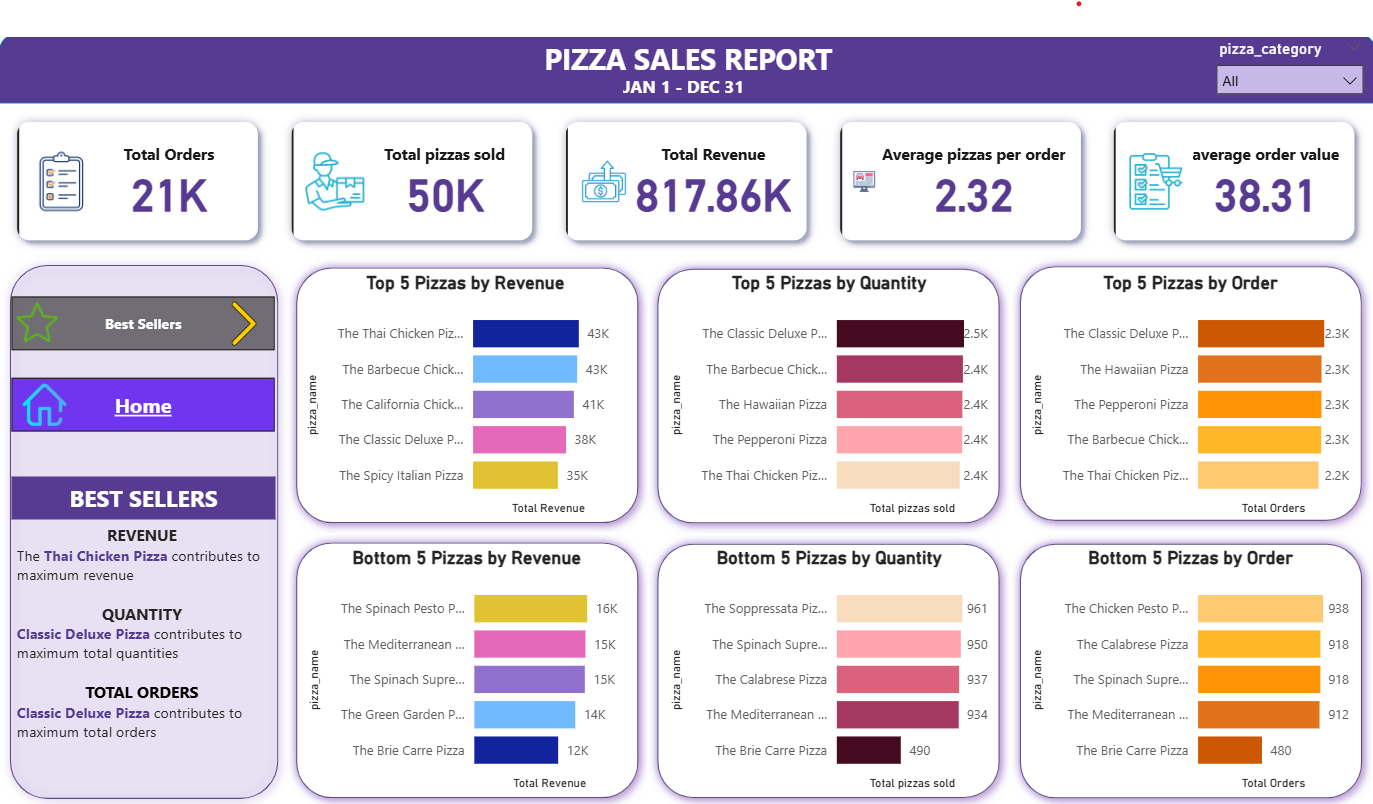

The page's visual inventory and layout, read from the dashboard file:
{"tool":"powerbi","page":{"name":"Best Sellers","canvas":[1280,720],"ordinal":1},"visuals":[{"type":"cardVisual","fields":{"Data":["pizza_sales.Total Orders","pizza_sales.Total pizzas sold","pizza_sales.Total Revenue","pizza_sales.Average pizzas per order","pizza_sales.average order value"]},"box":[0,64.7,1280.9,144.1],"z":0},{"type":"shape","box":[0,0,1280.9,64.7],"z":1000},{"type":"textbox","box":[497.4,0,287,45.5],"z":2000},{"type":"textbox","box":[575.3,32.5,132.5,32.5],"z":3000},{"type":"shape","box":[267.5,207.8,336.4,255.8],"z":4000},{"type":"shape","box":[1.5,205.9,267.6,514.7],"z":5000},{"type":"textbox","box":[11.8,411.8,245.6,39.7],"z":6000},{"type":"textbox","box":[11.8,451.5,242.6,233.8],"z":7000},{"type":"slicer","fields":{"Values":["pizza_sales.pizza_category"]},"box":[1122.1,0,157.4,64.7],"z":8000},{"type":"shape","box":[603.9,209.1,336.4,255],"z":9000},{"type":"shape","box":[940.3,206.5,336,255],"z":10000},{"type":"shape","box":[267.5,463.6,336.4,255.8],"z":11000},{"type":"shape","box":[603.9,464.9,336.4,254.5],"z":12000},{"type":"shape","box":[940.3,464.9,336.4,255],"z":13000},{"type":"barChart","title":"Top 5 Pizzas by Revenue","fields":{"Category":["pizza_sales.pizza_name"],"Y":["pizza_sales.Total Revenue"]},"box":[281.8,220.8,305.2,231.2],"z":14000},{"type":"barChart","title":"Bottom 5  Pizzas by Revenue","fields":{"Category":["pizza_sales.pizza_name"],"Y":["pizza_sales.Total Revenue"]},"box":[283.1,476.6,305.2,231.2],"z":15000},{"type":"barChart","title":"Top 5 Pizzas by Quantity","fields":{"Category":["pizza_sales.pizza_name"],"Y":["pizza_sales.Total pizzas sold"]},"box":[619.5,220.8,305.2,231.2],"z":16000},{"type":"barChart","title":"Bottom 5 Pizzas by Quantity","fields":{"Category":["pizza_sales.pizza_name"],"Y":["pizza_sales.Total pizzas sold"]},"box":[619.5,476.6,305.2,231.2],"z":17000},{"type":"barChart","title":"Top 5 Pizzas by Order","fields":{"Category":["pizza_sales.pizza_name"],"Y":["pizza_sales.Total Orders"]},"box":[955.8,220.8,305.2,231.2],"z":18000},{"type":"barChart","title":"Bottom 5 Pizzas by Order","fields":{"Category":["pizza_sales.pizza_name"],"Y":["pizza_sales.Total Orders"]},"box":[955.8,476.6,305.2,231.2],"z":19000},{"type":"pageNavigator","box":[11.7,244.2,245.5,50.6],"z":20000},{"type":"pageNavigator","box":[11.7,319.5,245.5,50.6],"z":21000},{"type":"image","box":[201.3,244.2,53.2,50.6],"z":22000},{"type":"image","box":[11.7,319.5,61,50.6],"z":23000},{"type":"image","box":[11.7,244.2,48.1,48.1],"z":23001}]}

Visuals, with their boxes on the page's 1280x720 design canvas (x1, y1, x2, y2). These are canvas units, not pixel positions in the 1373x804 screenshot, which may show the page scaled, cropped or inside an application window:
cardVisual - pizza_sales.Total Orders x pizza_sales.Total pizzas sold: {"x1": 0, "y1": 65, "x2": 1281, "y2": 209}
shape: {"x1": 0, "y1": 0, "x2": 1281, "y2": 65}
textbox: {"x1": 497, "y1": 0, "x2": 784, "y2": 46}
textbox: {"x1": 575, "y1": 32, "x2": 708, "y2": 65}
shape: {"x1": 268, "y1": 208, "x2": 604, "y2": 464}
shape: {"x1": 2, "y1": 206, "x2": 269, "y2": 721}
textbox: {"x1": 12, "y1": 412, "x2": 257, "y2": 452}
textbox: {"x1": 12, "y1": 452, "x2": 254, "y2": 685}
slicer - pizza_sales.pizza_category: {"x1": 1122, "y1": 0, "x2": 1280, "y2": 65}
shape: {"x1": 604, "y1": 209, "x2": 940, "y2": 464}
shape: {"x1": 940, "y1": 206, "x2": 1276, "y2": 462}
shape: {"x1": 268, "y1": 464, "x2": 604, "y2": 719}
shape: {"x1": 604, "y1": 465, "x2": 940, "y2": 719}
shape: {"x1": 940, "y1": 465, "x2": 1277, "y2": 720}
"Top 5 Pizzas by Revenue" barChart: {"x1": 282, "y1": 221, "x2": 587, "y2": 452}
"Bottom 5  Pizzas by Revenue" barChart: {"x1": 283, "y1": 477, "x2": 588, "y2": 708}
"Top 5 Pizzas by Quantity" barChart: {"x1": 620, "y1": 221, "x2": 925, "y2": 452}
"Bottom 5 Pizzas by Quantity" barChart: {"x1": 620, "y1": 477, "x2": 925, "y2": 708}
"Top 5 Pizzas by Order" barChart: {"x1": 956, "y1": 221, "x2": 1261, "y2": 452}
"Bottom 5 Pizzas by Order" barChart: {"x1": 956, "y1": 477, "x2": 1261, "y2": 708}
pageNavigator: {"x1": 12, "y1": 244, "x2": 257, "y2": 295}
pageNavigator: {"x1": 12, "y1": 320, "x2": 257, "y2": 370}
image: {"x1": 201, "y1": 244, "x2": 254, "y2": 295}
image: {"x1": 12, "y1": 320, "x2": 73, "y2": 370}
image: {"x1": 12, "y1": 244, "x2": 60, "y2": 292}
